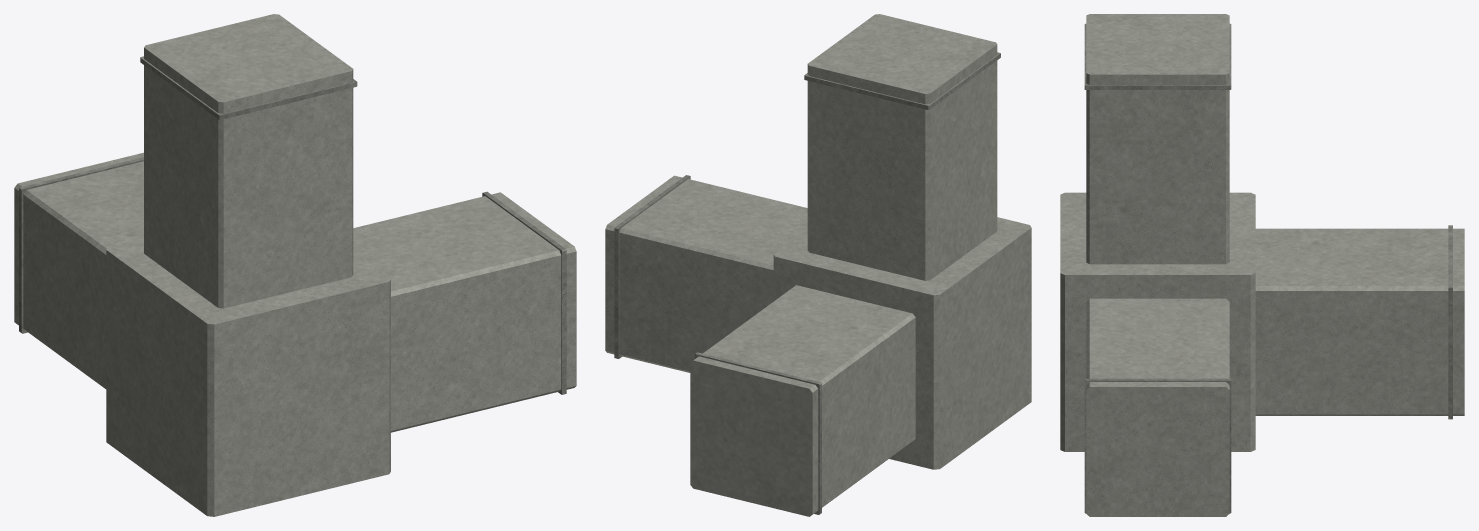
The model's file is PZ_Joint_Corner_XYZ.glb.
The picture shows the model from 3 angles, left to right: view 1: azimuth 30°, elevation 25°; view 2: azimuth 150°, elevation 25°; view 3: azimuth 270°, elevation 25°; orthographic projection. The views are drawn at different scales.
Visible parts, largest first — view 1: RENDER_PZ_Joint_Corner_XYZ__RENDER_Joint_Central_Core__000, RENDER_PZ_Joint_Corner_XYZ__RENDER_Stub_+Z__005, RENDER_PZ_Joint_Corner_XYZ__RENDER_Stub_+X__001, RENDER_PZ_Joint_Corner_XYZ__RENDER_Stub_+Y__003, RENDER_PZ_Joint_Corner_XYZ__RENDER_Joint_Grout_+Z__006, RENDER_PZ_Joint_Corner_XYZ__RENDER_Joint_Grout_+X__002, RENDER_PZ_Joint_Corner_XYZ__RENDER_Joint_Grout_+Y__004; view 2: RENDER_PZ_Joint_Corner_XYZ__RENDER_Stub_+Z__005, RENDER_PZ_Joint_Corner_XYZ__RENDER_Stub_+Y__003, RENDER_PZ_Joint_Corner_XYZ__RENDER_Joint_Central_Core__000, RENDER_PZ_Joint_Corner_XYZ__RENDER_Stub_+X__001, RENDER_PZ_Joint_Corner_XYZ__RENDER_Joint_Grout_+X__002, RENDER_PZ_Joint_Corner_XYZ__RENDER_Joint_Grout_+Z__006, RENDER_PZ_Joint_Corner_XYZ__RENDER_Joint_Grout_+Y__004; view 3: RENDER_PZ_Joint_Corner_XYZ__RENDER_Stub_+Y__003, RENDER_PZ_Joint_Corner_XYZ__RENDER_Stub_+Z__005, RENDER_PZ_Joint_Corner_XYZ__RENDER_Stub_+X__001, RENDER_PZ_Joint_Corner_XYZ__RENDER_Joint_Central_Core__000, RENDER_PZ_Joint_Corner_XYZ__RENDER_Joint_Grout_+X__002, RENDER_PZ_Joint_Corner_XYZ__RENDER_Joint_Grout_+Z__006, RENDER_PZ_Joint_Corner_XYZ__RENDER_Joint_Grout_+Y__004.
Boxes of the visible parts, x1,y1,x2,y2 form: RENDER_PZ_Joint_Corner_XYZ__RENDER_Joint_Central_Core__000: (106,238,390,516); RENDER_PZ_Joint_Corner_XYZ__RENDER_Stub_+Z__005: (144,14,353,308); RENDER_PZ_Joint_Corner_XYZ__RENDER_Stub_+X__001: (353,192,576,432); RENDER_PZ_Joint_Corner_XYZ__RENDER_Stub_+Y__003: (14,152,143,389); RENDER_PZ_Joint_Corner_XYZ__RENDER_Joint_Grout_+Z__006: (140,56,357,119); RENDER_PZ_Joint_Corner_XYZ__RENDER_Joint_Grout_+X__002: (482,191,566,394); RENDER_PZ_Joint_Corner_XYZ__RENDER_Joint_Grout_+Y__004: (19,157,143,333); RENDER_PZ_Joint_Corner_XYZ__RENDER_Stub_+Z__005: (807,14,997,280); RENDER_PZ_Joint_Corner_XYZ__RENDER_Stub_+Y__003: (690,285,915,516); RENDER_PZ_Joint_Corner_XYZ__RENDER_Joint_Central_Core__000: (773,217,1031,469); RENDER_PZ_Joint_Corner_XYZ__RENDER_Stub_+X__001: (605,175,807,372); RENDER_PZ_Joint_Corner_XYZ__RENDER_Joint_Grout_+X__002: (614,175,690,358); RENDER_PZ_Joint_Corner_XYZ__RENDER_Joint_Grout_+Z__006: (804,52,1000,109); RENDER_PZ_Joint_Corner_XYZ__RENDER_Joint_Grout_+Y__004: (694,352,821,514); RENDER_PZ_Joint_Corner_XYZ__RENDER_Stub_+Y__003: (1255,228,1464,415); RENDER_PZ_Joint_Corner_XYZ__RENDER_Stub_+Z__005: (1086,14,1229,264); RENDER_PZ_Joint_Corner_XYZ__RENDER_Stub_+X__001: (1086,298,1229,516); RENDER_PZ_Joint_Corner_XYZ__RENDER_Joint_Central_Core__000: (1060,192,1255,451); RENDER_PZ_Joint_Corner_XYZ__RENDER_Joint_Grout_+X__002: (1084,378,1231,513); RENDER_PZ_Joint_Corner_XYZ__RENDER_Joint_Grout_+Z__006: (1084,23,1231,89); RENDER_PZ_Joint_Corner_XYZ__RENDER_Joint_Grout_+Y__004: (1448,225,1452,419).
Bounding box in the file's own units: 1.01 × 1.01 × 1.01.
2 materials, 2 textured.
